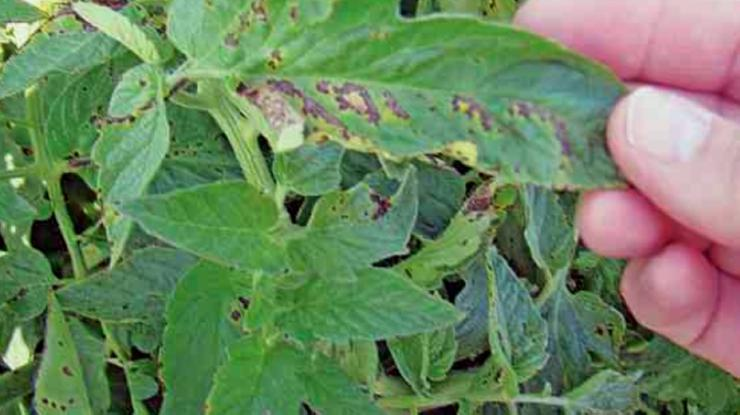Tomato Early blight leaf: (146, 0, 618, 187)
Tomato leaf: (103, 184, 294, 274), (298, 278, 462, 340), (288, 354, 391, 415)
